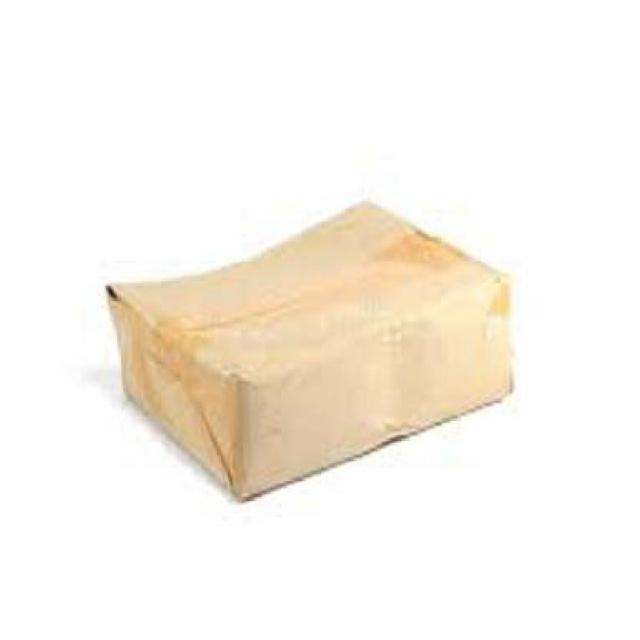defect: (103, 203, 528, 500)
